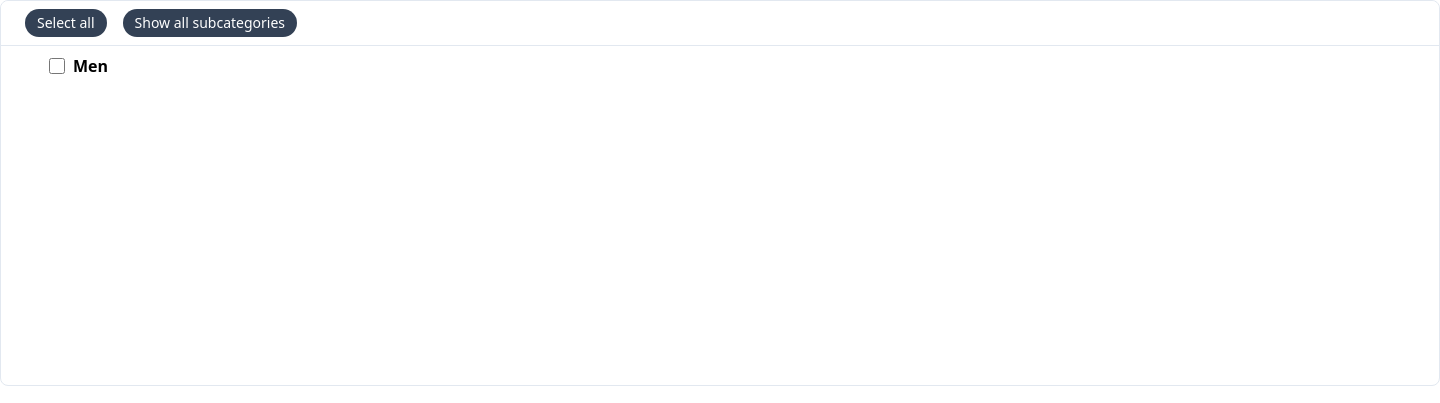
Test: TreeToolbar › should show all subcategories when clicking show all subcategories
Check: the number of checkboxes is 1, box x1=49 y1=58 x2=65 y2=74
What coordinates should you click on to do the following:
click the text "Show all subcategories"
I would click on:
 (210, 23)
Its box is x1=135 y1=13 x2=285 y2=33.
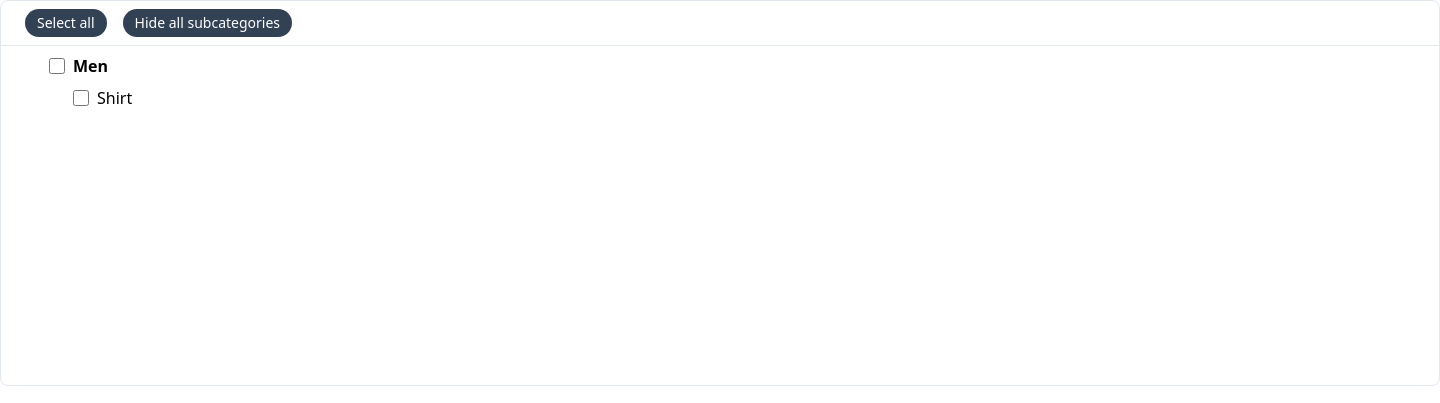
Check: the number of checkboxes is 2, box x1=49 y1=58 x2=65 y2=74; x1=73 y1=90 x2=89 y2=106
